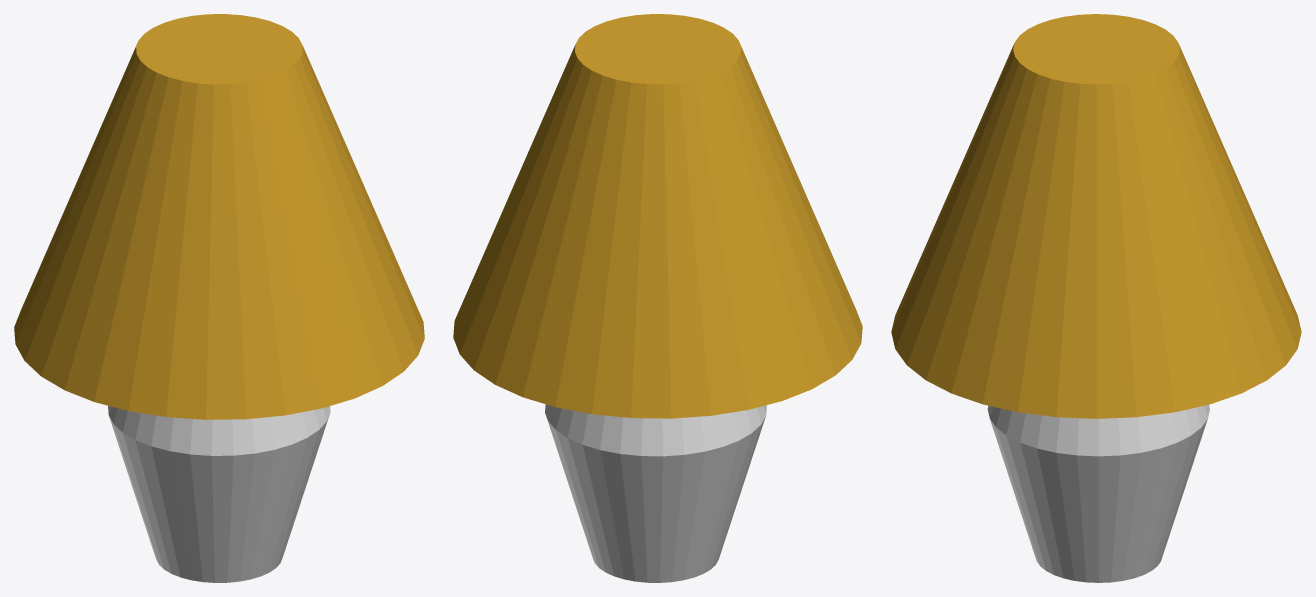
Rendered from bed_lamp.fbx.
3 views of the same model, side by side, from view 1: azimuth 30°, elevation 25°; view 2: azimuth 150°, elevation 25°; view 3: azimuth 270°, elevation 25° (orthographic).
Visible parts, largest first — view 1: Cylinder.001, Cylinder; view 2: Cylinder.001, Cylinder; view 3: Cylinder.001, Cylinder.
Boxes of the visible parts, left/top/right/bottom form: Cylinder.001: left=14, top=14, right=424, bottom=419; Cylinder: left=108, top=405, right=330, bottom=582; Cylinder.001: left=453, top=14, right=862, bottom=418; Cylinder: left=545, top=404, right=766, bottom=582; Cylinder.001: left=891, top=14, right=1301, bottom=418; Cylinder: left=987, top=404, right=1209, bottom=582.
Bounding box in the file's own units: 155 × 211 × 155.
